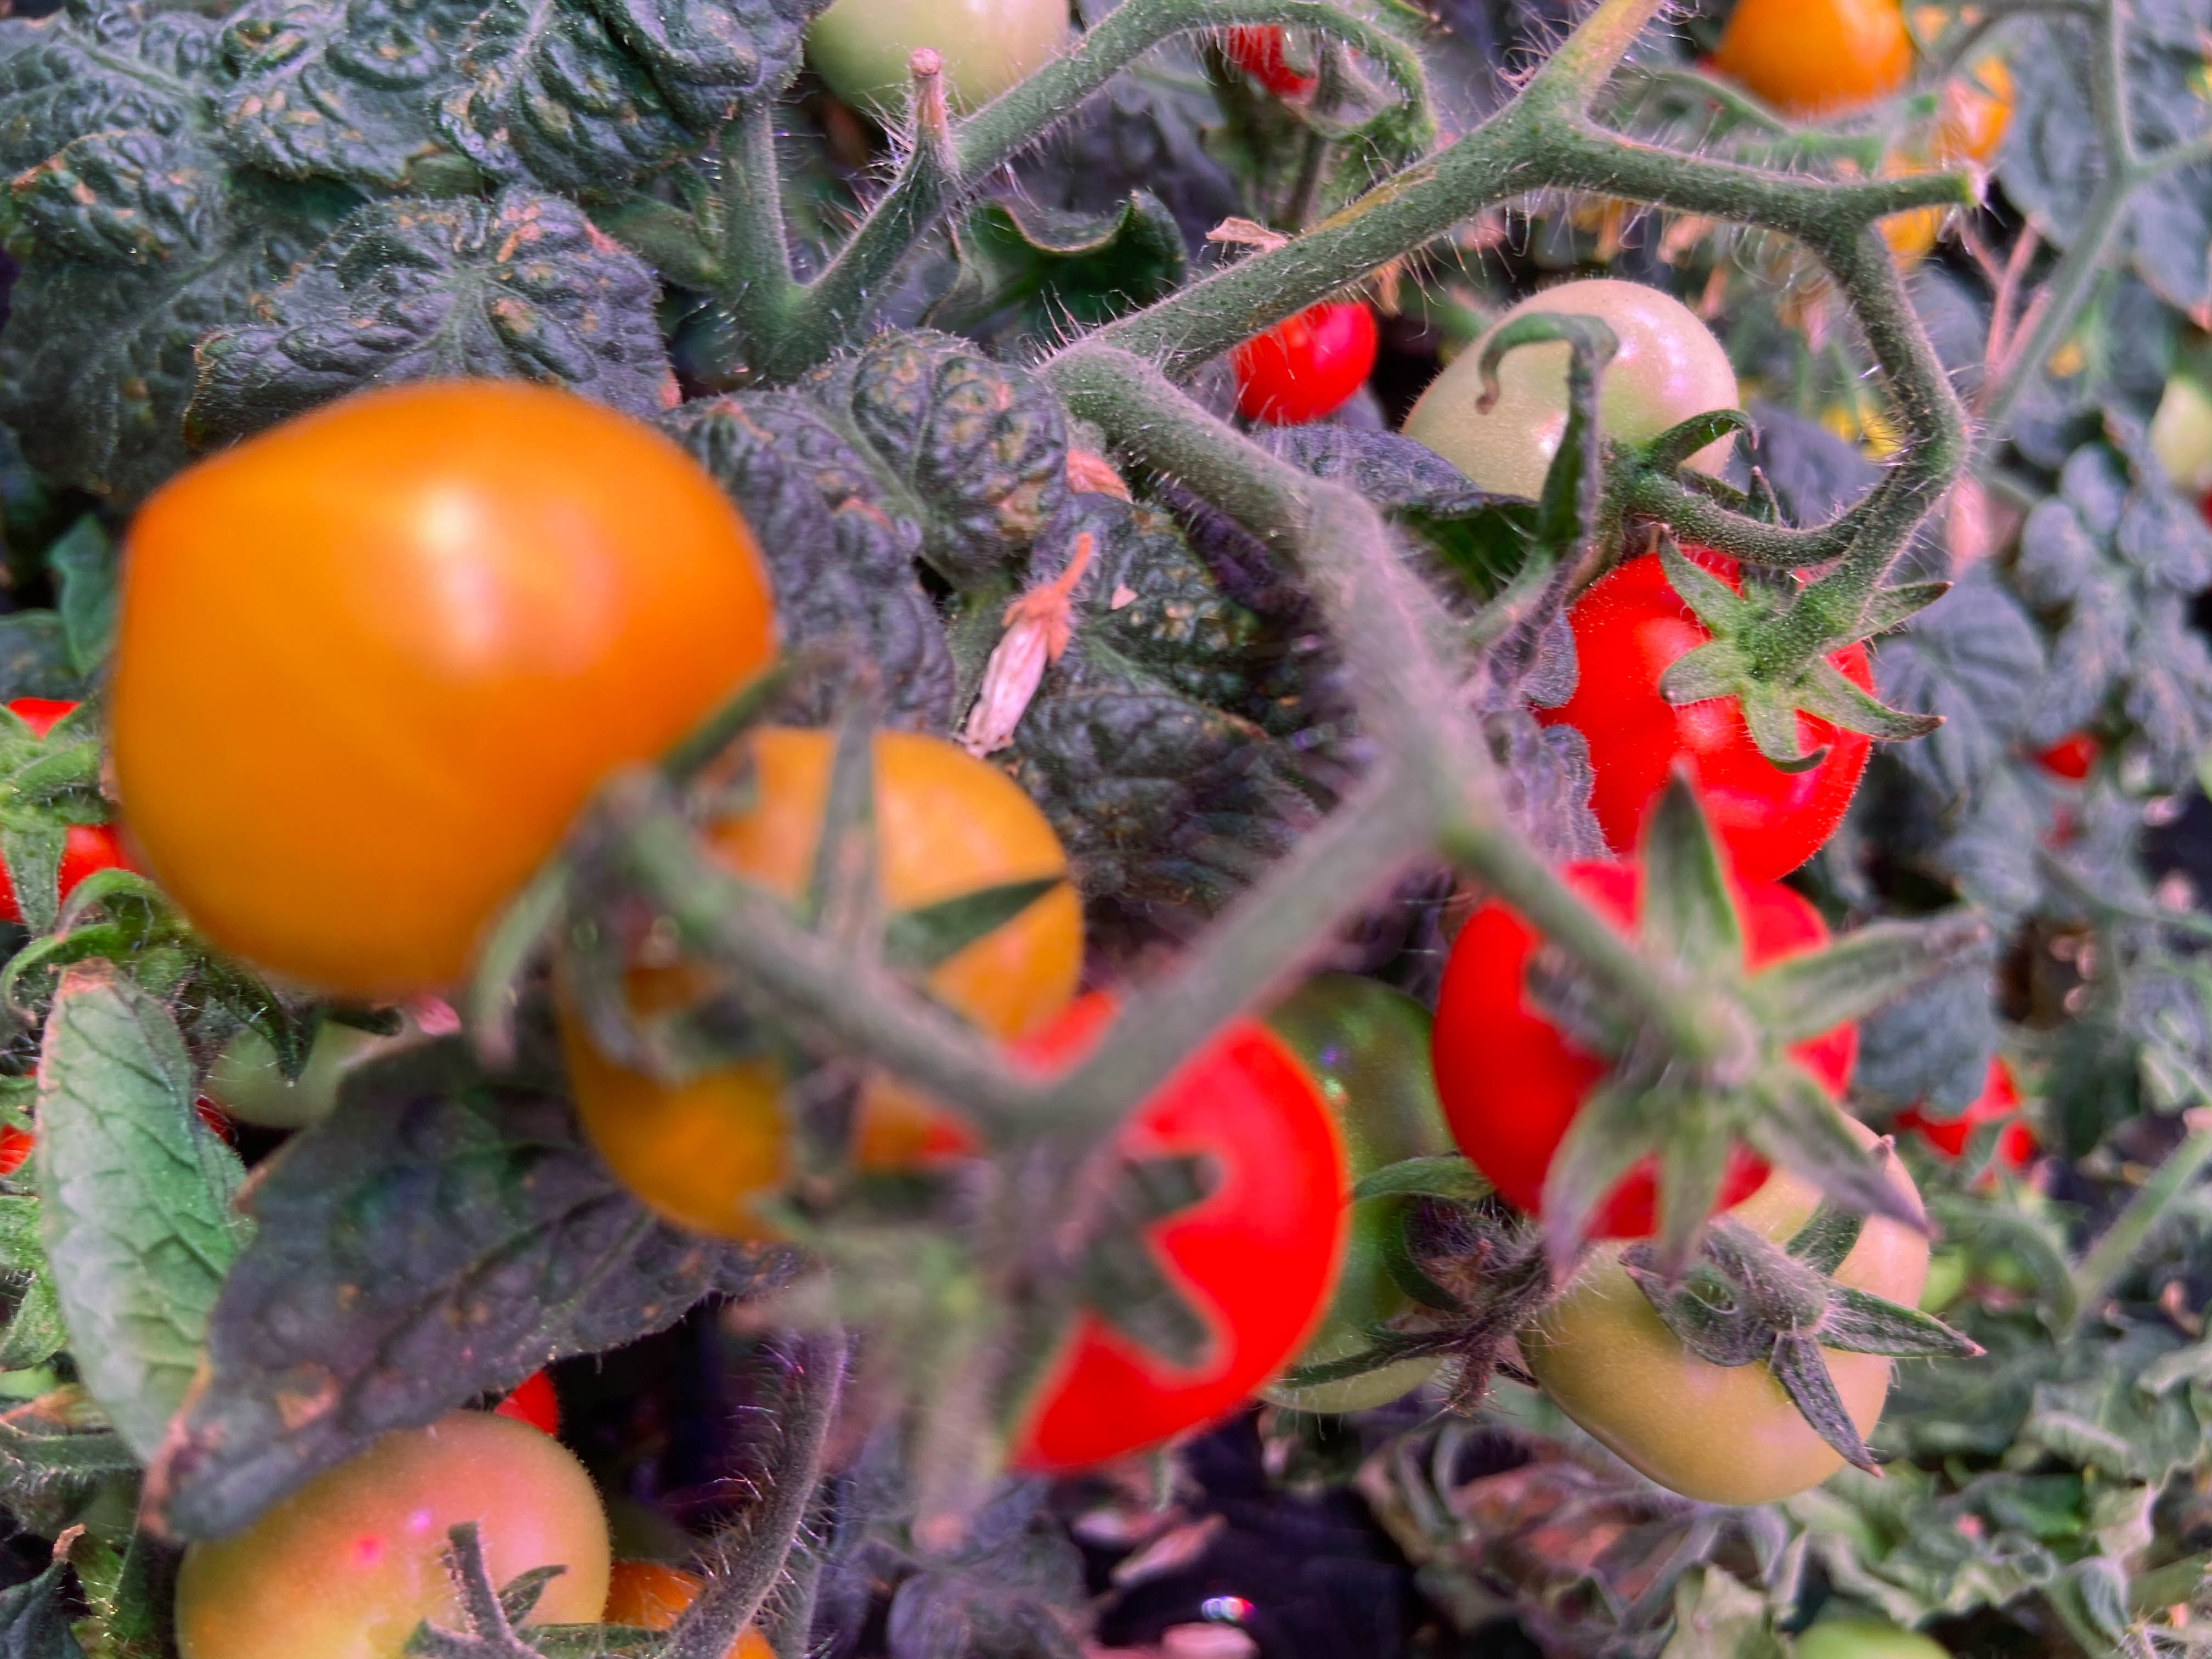green: (1521, 1129, 1928, 1504), (1416, 275, 1747, 519), (799, 0, 1080, 145), (181, 1006, 430, 1129), (1761, 1588, 2001, 1659), (1970, 1190, 2064, 1297)
red: (99, 364, 773, 1021), (570, 706, 1089, 1232), (899, 997, 1346, 1459), (1433, 859, 1851, 1246), (1552, 532, 1878, 899), (172, 1406, 622, 1659), (1735, 143, 1977, 340), (0, 685, 131, 962), (1217, 265, 1381, 427), (1714, 0, 1914, 120), (536, 1563, 786, 1659), (2, 1042, 124, 1215), (1900, 1065, 2034, 1182), (1900, 40, 2010, 173), (448, 1335, 571, 1443), (1219, 0, 1331, 105), (2019, 718, 2097, 803)
